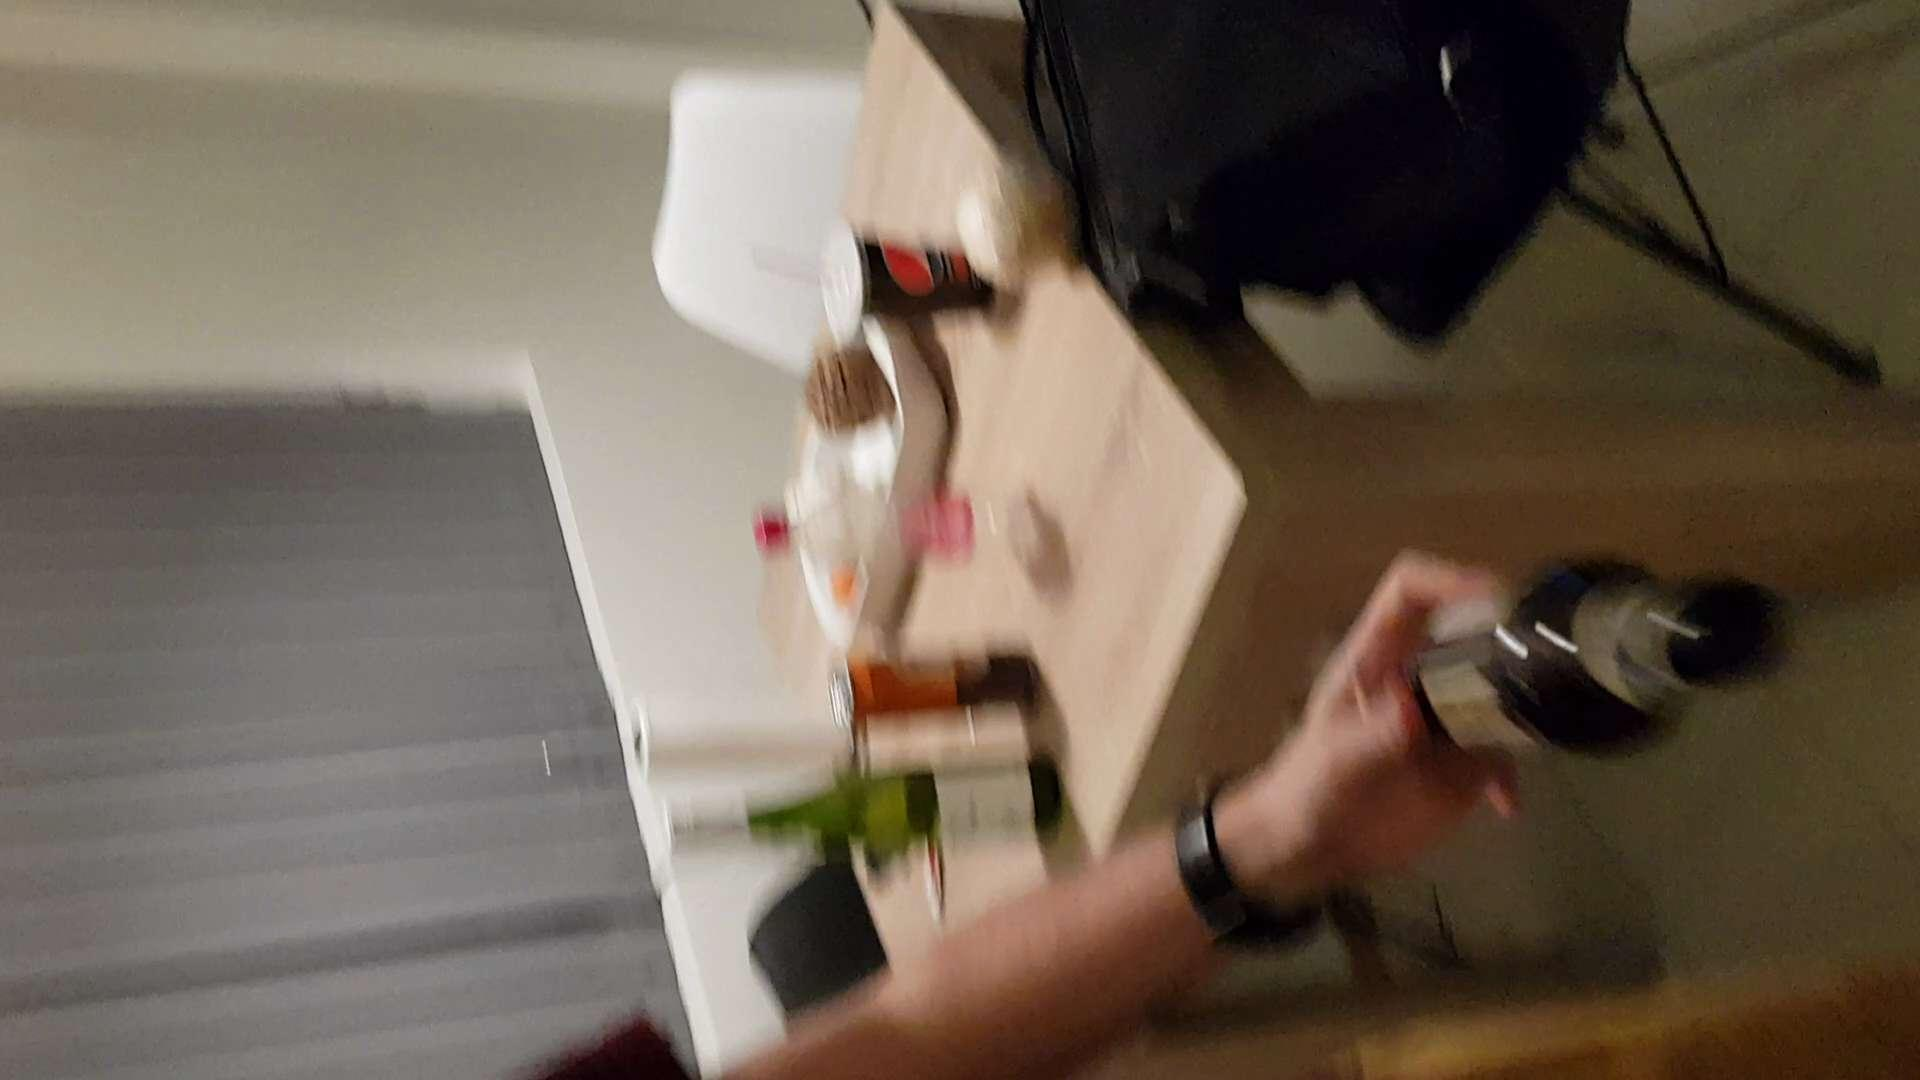Bottle: (1400, 553, 1785, 762), (670, 760, 1063, 862)
